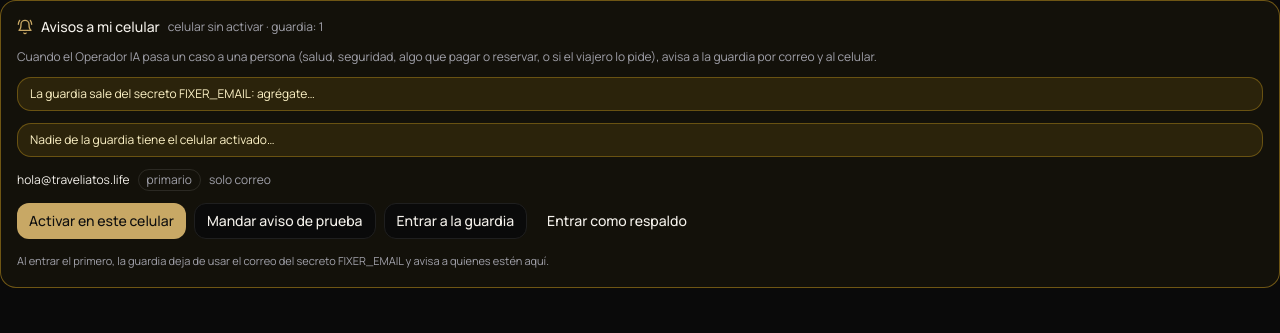
it: avisos al equipo · pantalla › Mandar aviso de prueba muestra el resultado por persona
Step 1. Click the button "Mandar aviso de prueba" → click(285, 221), box [194,203,376,239]
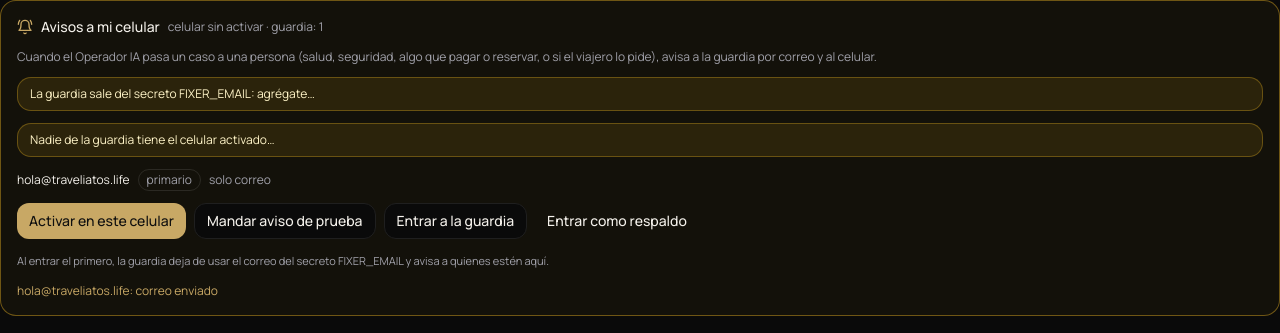
Result: the text "hola@traveliatos.life: correo enviado" is shown at [17,282,218,299]
